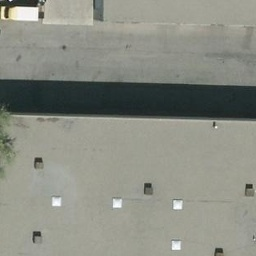car: (1, 2, 40, 22)
